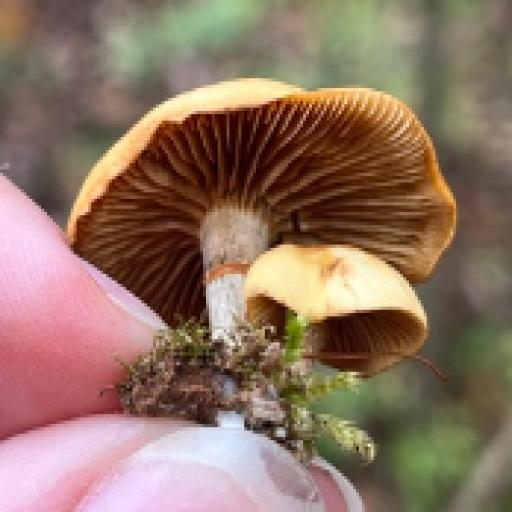Funeral Bell: (62, 71, 463, 434)
